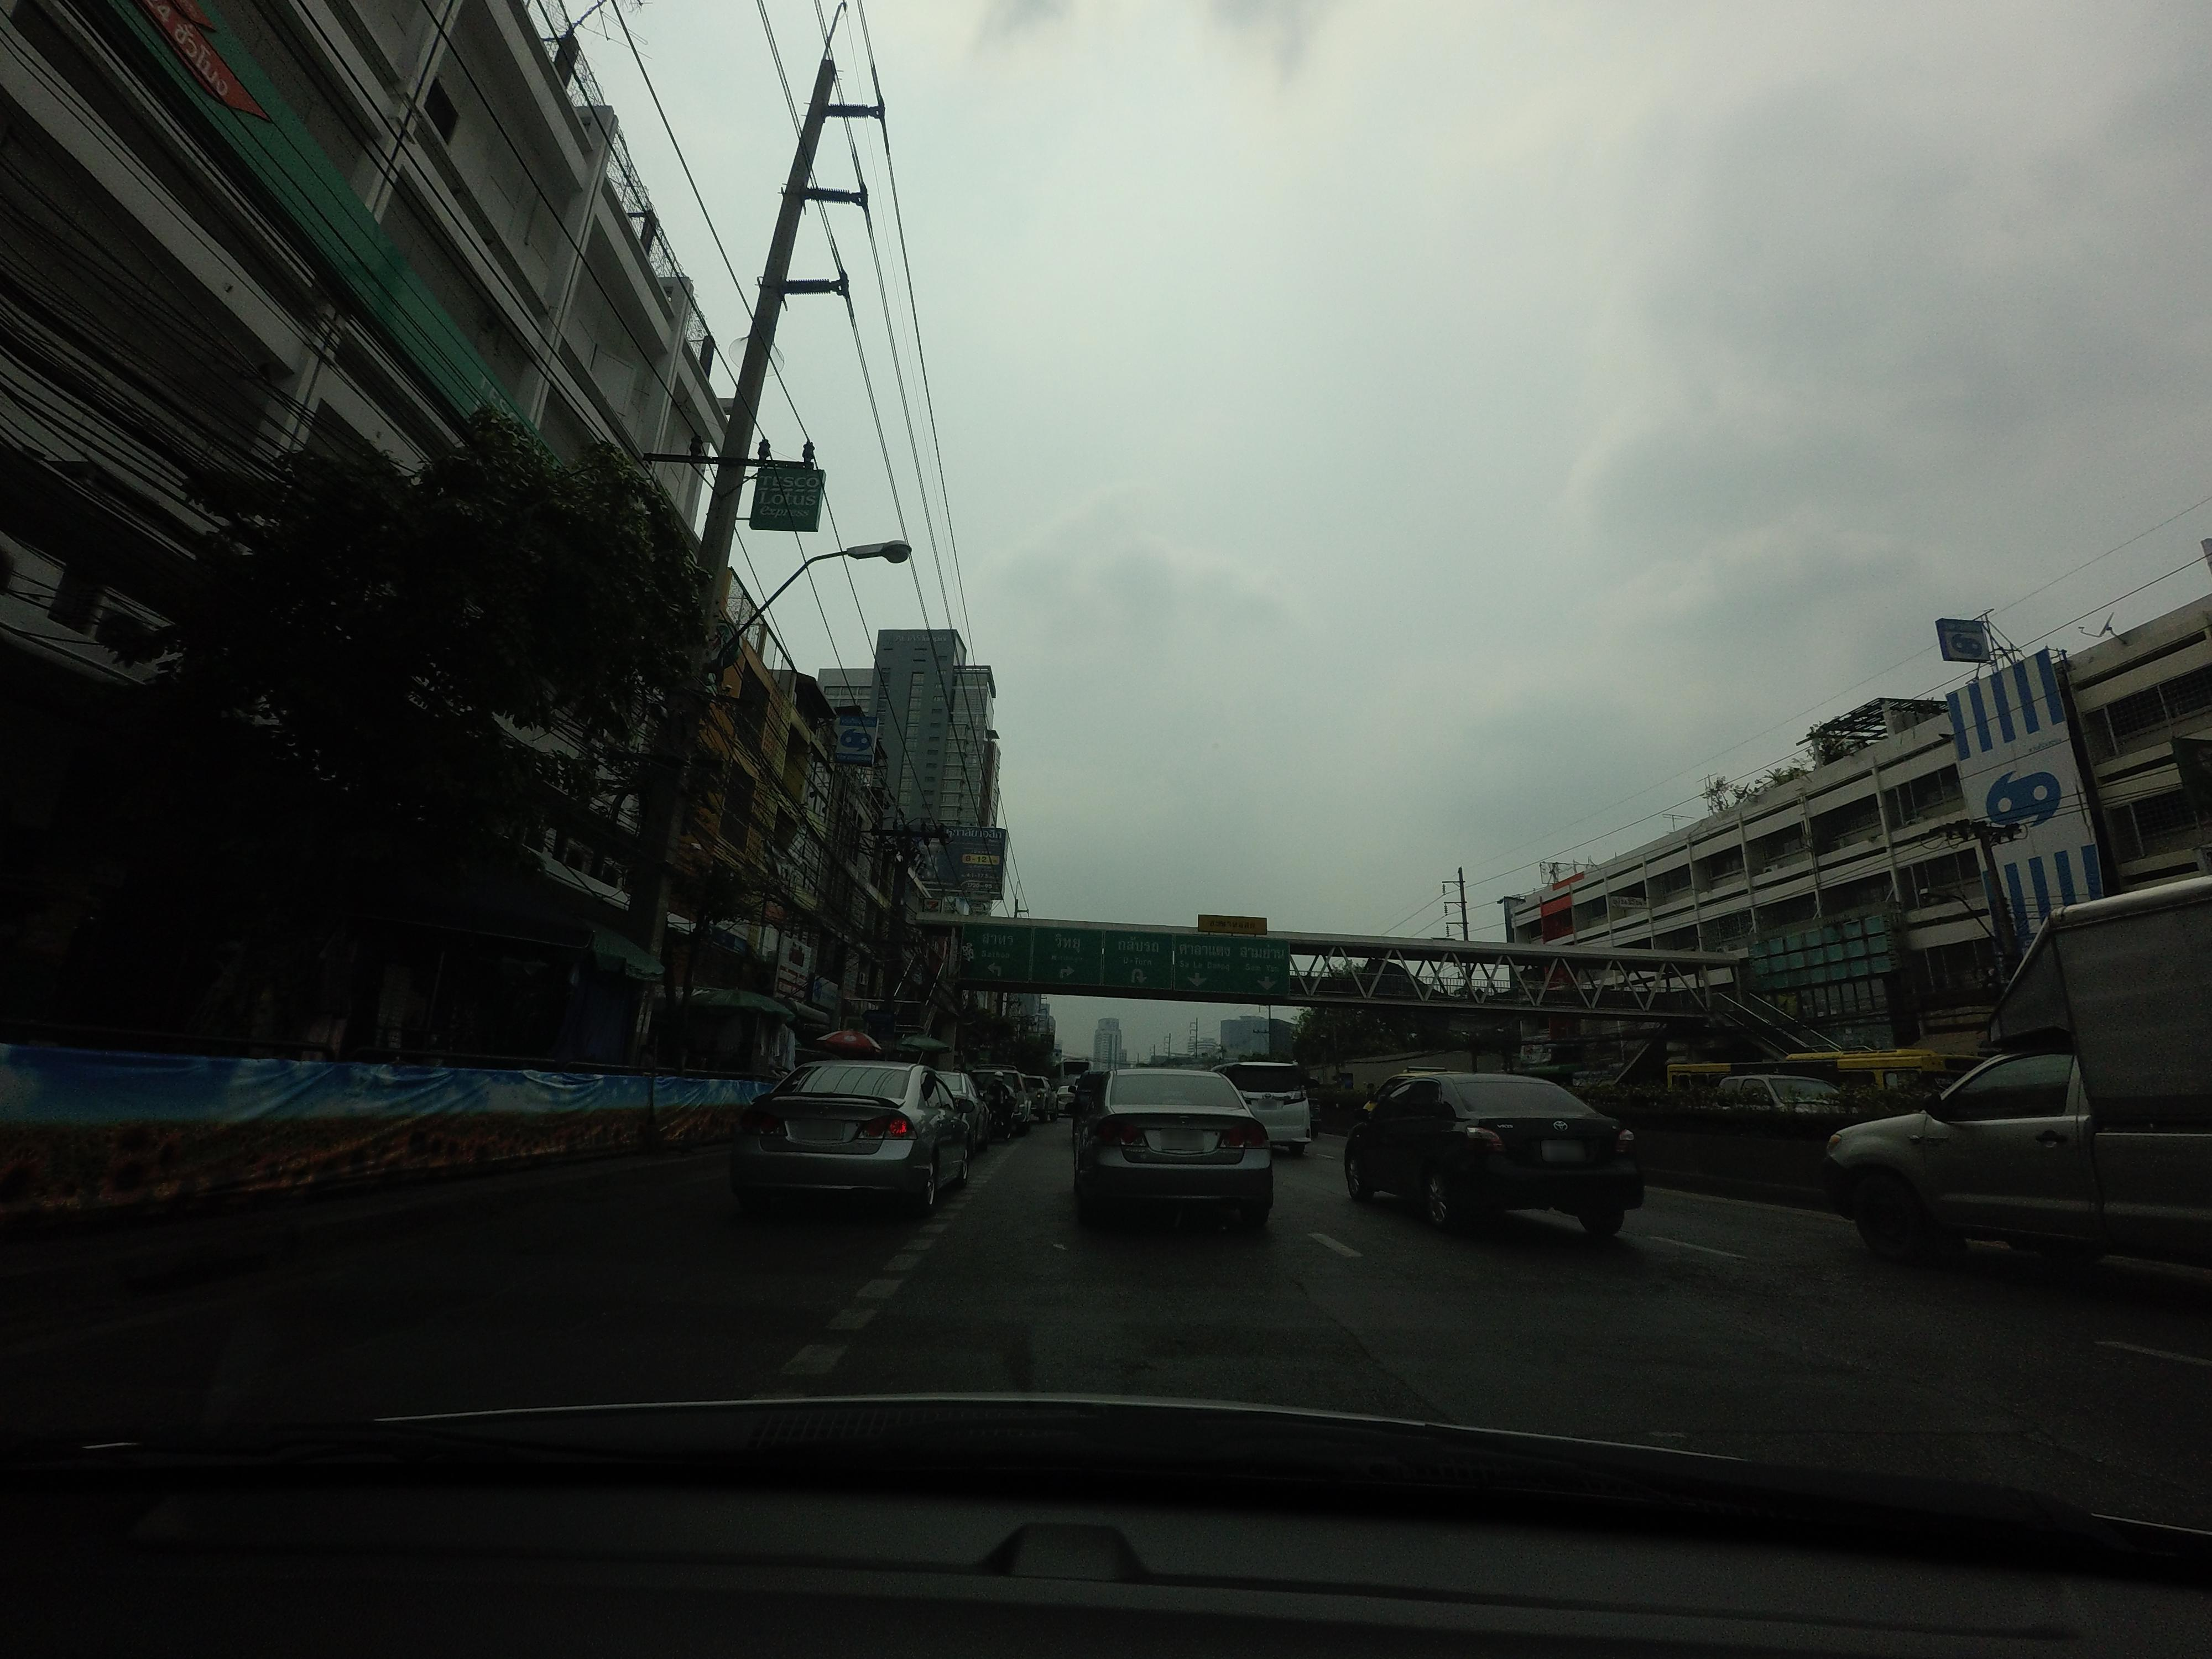vinyl banner: (9, 1028, 650, 1204), (660, 1063, 784, 1166)
